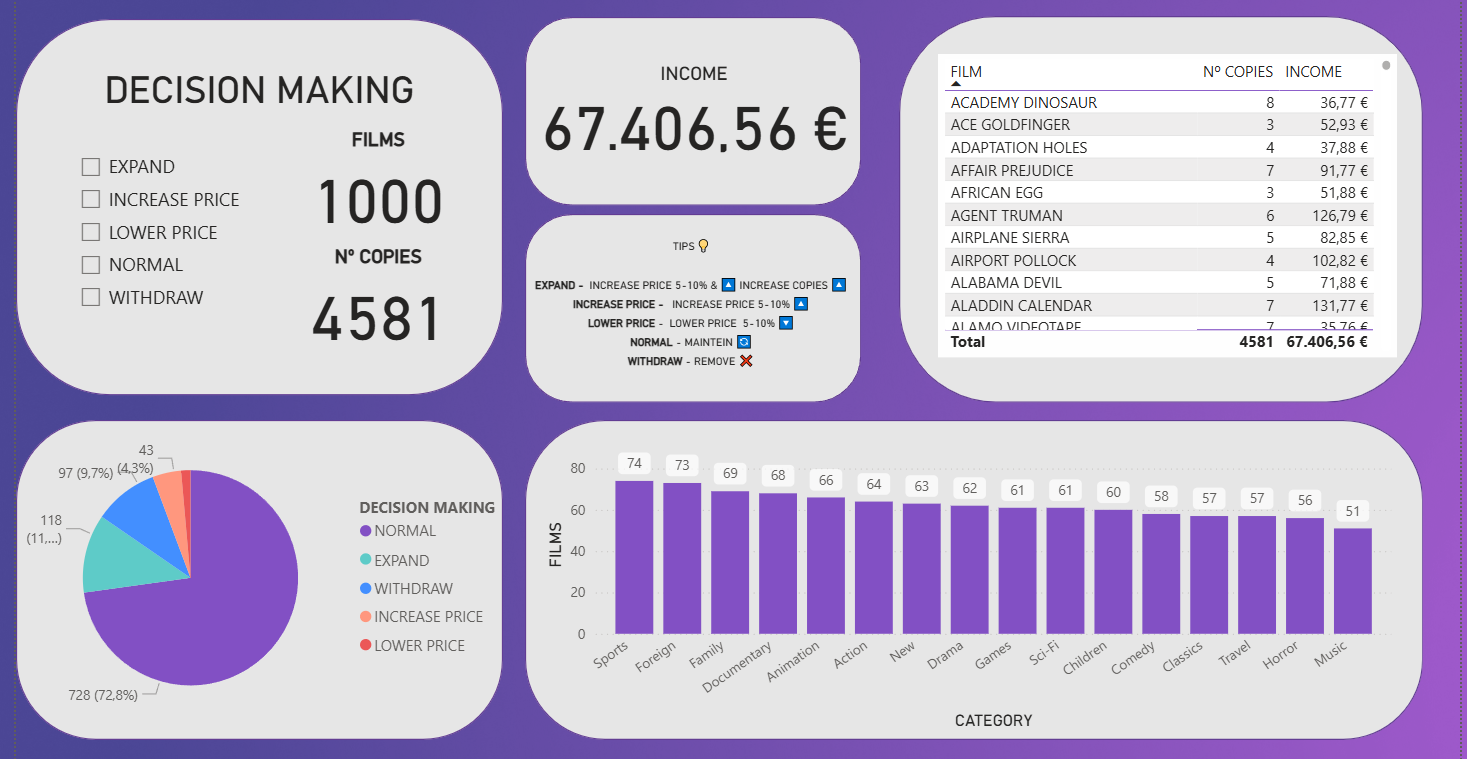

What the dashboard file says about the page in this screenshot:
{"tool":"powerbi","page":{"name":"DECISION FINAL","canvas":[1280,720],"ordinal":2},"visuals":[{"type":"shape","box":[450.9,24.5,298.2,167.3],"z":0},{"type":"shape","box":[450.9,381.8,796.4,283.6],"z":1000},{"type":"shape","box":[0,381.8,431.8,283.6],"z":2000},{"type":"shape","box":[0,26.4,431.8,333.6],"z":3000},{"type":"textbox","box":[30,64.5,370.9,59.1],"z":4000},{"type":"slicer","fields":{"Values":["PROYECTO COMPLETO.TOMA_DE_DECISION_FINAL"]},"box":[45.5,137.3,307.3,189.1],"z":5000},{"type":"lineClusteredColumnComboChart","fields":{"Category":["PROYECTO COMPLETO.Categoria"],"Y":["CountNonNull(PROYECTO COMPLETO.Film_id)"]},"box":[465.5,400,759.1,261.8],"z":6000},{"type":"pieChart","fields":{"Y":["CountNonNull(PROYECTO COMPLETO.Film_id)"],"Category":["PROYECTO COMPLETO.TOMA_DE_DECISION_FINAL"]},"box":[0,366.4,445.5,311.8],"z":7000},{"type":"card","title":"FILMS","fields":{"Values":["CountNonNull(PROYECTO COMPLETO.Film_id)"]},"box":[240.9,123.6,160,97.3],"z":8000},{"type":"card","title":"INCOME","fields":{"Values":["Sum(PROYECTO COMPLETO.Ingresos_Totales)"]},"box":[450.9,64.5,300,85.5],"z":9000},{"type":"shape","box":[782.7,23.6,464.5,342.7],"z":10000},{"type":"tableEx","fields":{"Values":["PROYECTO COMPLETO.Nombre","Sum(PROYECTO COMPLETO.Numero_de_Copias)","Sum(PROYECTO COMPLETO.Ingresos_Totales)"]},"box":[817.3,57.3,407.3,269.1],"z":11000},{"type":"shape","box":[450.9,199.1,298.2,167.3],"z":12000},{"type":"textbox","box":[449.1,212.7,300,167.3],"z":13000},{"type":"card","title":"Nº COPIES","fields":{"Values":["Sum(PROYECTO COMPLETO.Numero_de_Copias)"]},"box":[240.9,227.3,160,97.3],"z":14000}]}

Visuals, with their boxes on the page's 1280x720 design canvas (x1, y1, x2, y2). These are canvas units, not pixel positions in the 1467x759 screenshot, which may show the page scaled, cropped or inside an application window:
shape: region(451, 24, 749, 192)
shape: region(451, 382, 1247, 665)
shape: region(0, 382, 432, 665)
shape: region(0, 26, 432, 360)
textbox: region(30, 64, 401, 124)
slicer - PROYECTO COMPLETO.TOMA_DE_DECISION_FINAL: region(46, 137, 353, 326)
lineClusteredColumnComboChart - PROYECTO COMPLETO.Categoria x CountNonNull(PROYECTO COMPLETO.Film_id): region(466, 400, 1225, 662)
pieChart - CountNonNull(PROYECTO COMPLETO.Film_id) x PROYECTO COMPLETO.TOMA_DE_DECISION_FINAL: region(0, 366, 446, 678)
"FILMS" card: region(241, 124, 401, 221)
"INCOME" card: region(451, 64, 751, 150)
shape: region(783, 24, 1247, 366)
tableEx - PROYECTO COMPLETO.Nombre x Sum(PROYECTO COMPLETO.Numero_de_Copias): region(817, 57, 1225, 326)
shape: region(451, 199, 749, 366)
textbox: region(449, 213, 749, 380)
"Nº COPIES" card: region(241, 227, 401, 325)
